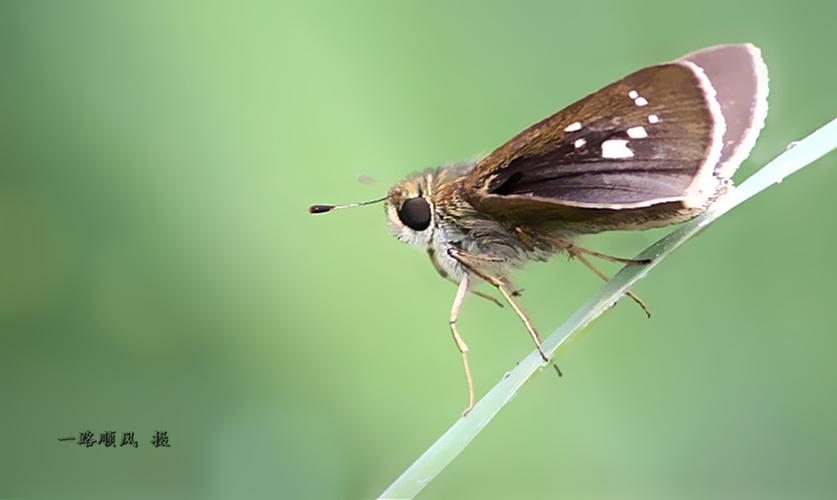Hesperiidae: (313, 39, 774, 412)
